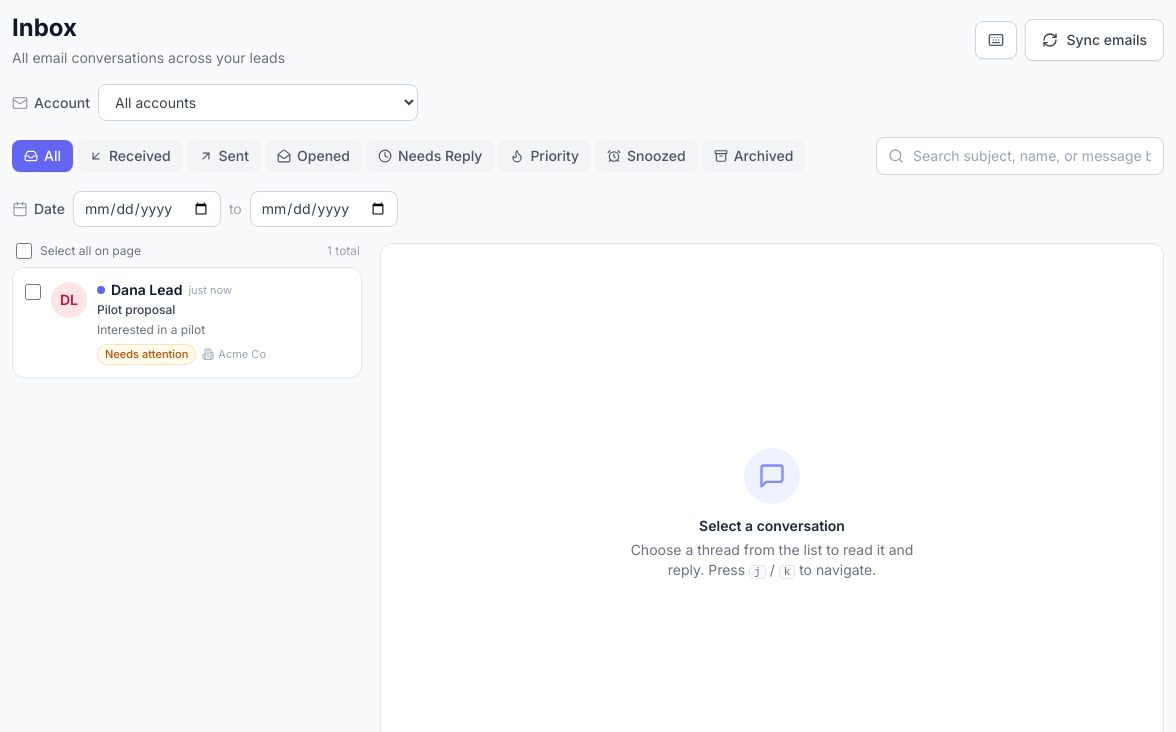
Test: Inbox composer › fills the composer with an AI draft
Click the button "Pilot proposal" at (189, 322), box [97, 280, 281, 364]
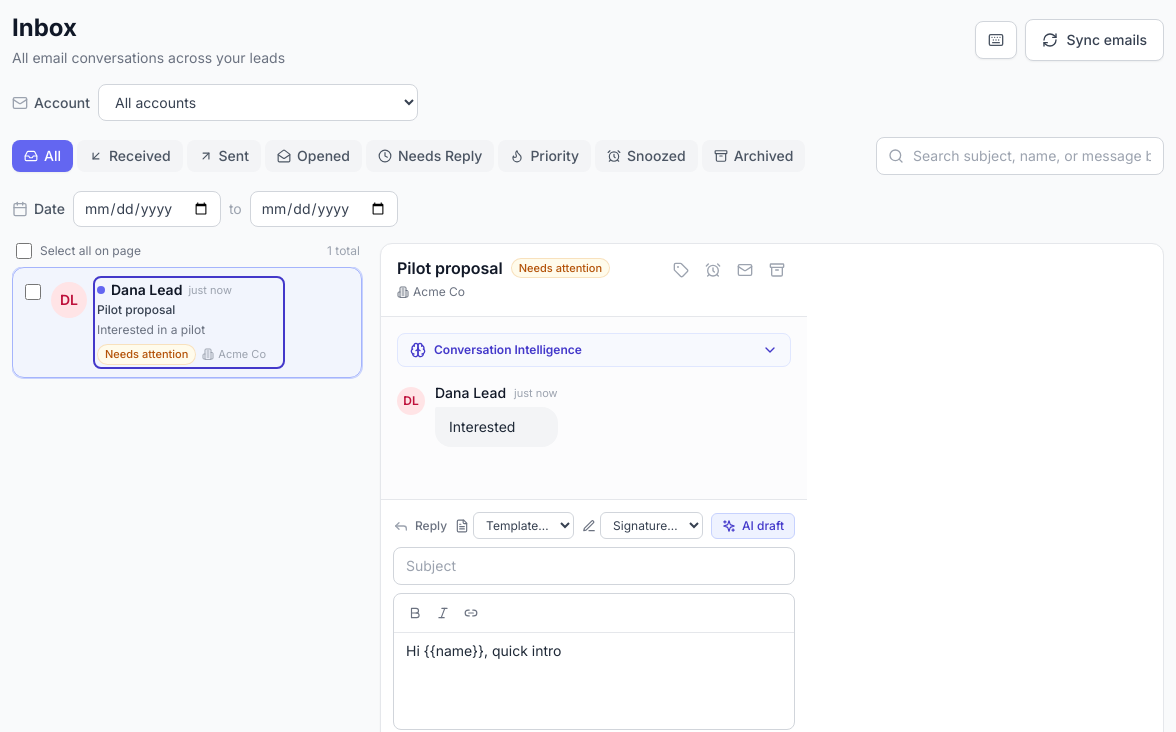
Click the button "AI draft" at (753, 526), box [711, 512, 795, 538]
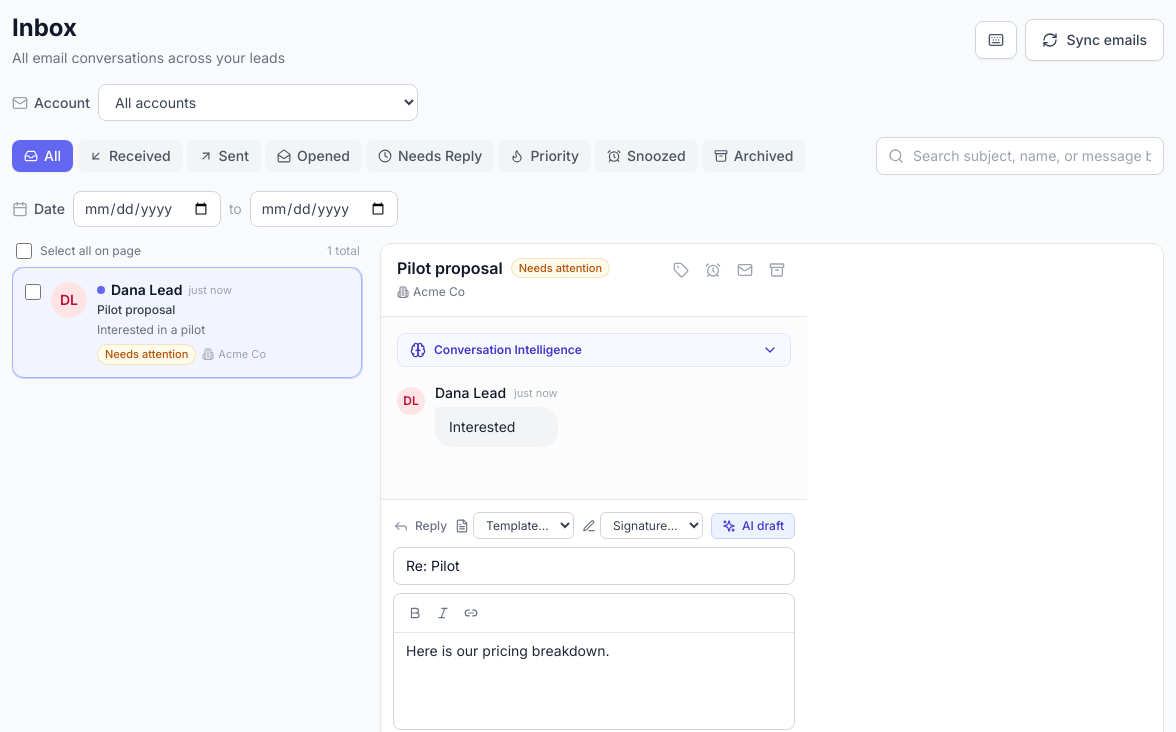
Expected: the field named "Reply body" shows "pricing breakdown", [406, 642, 610, 659]
